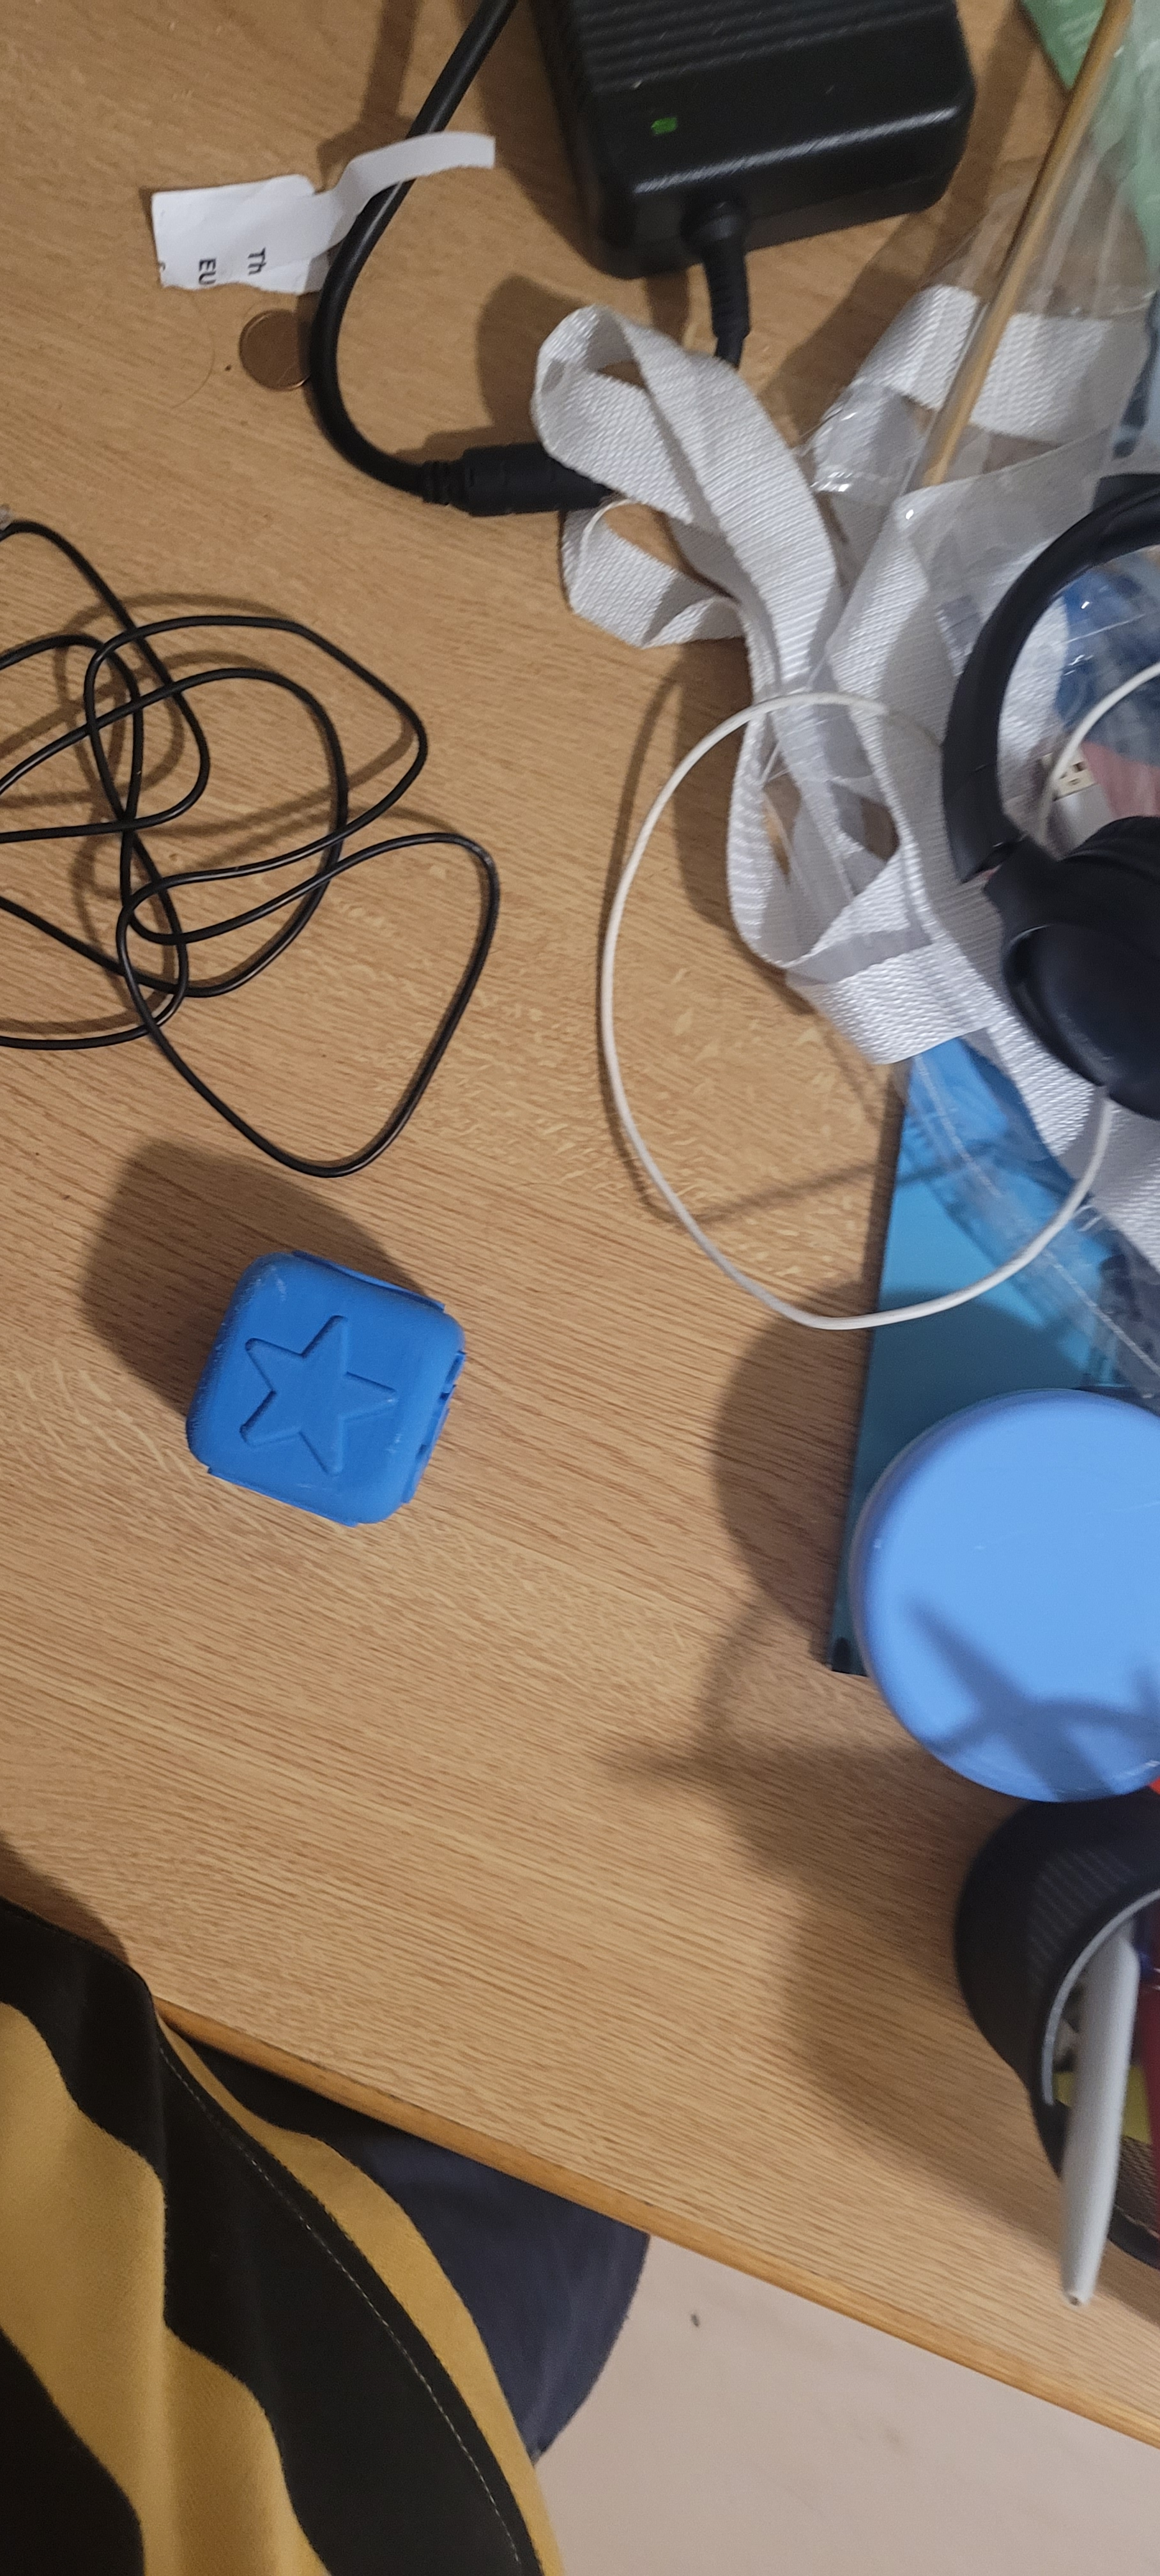Star: (212, 1255, 476, 1510)
